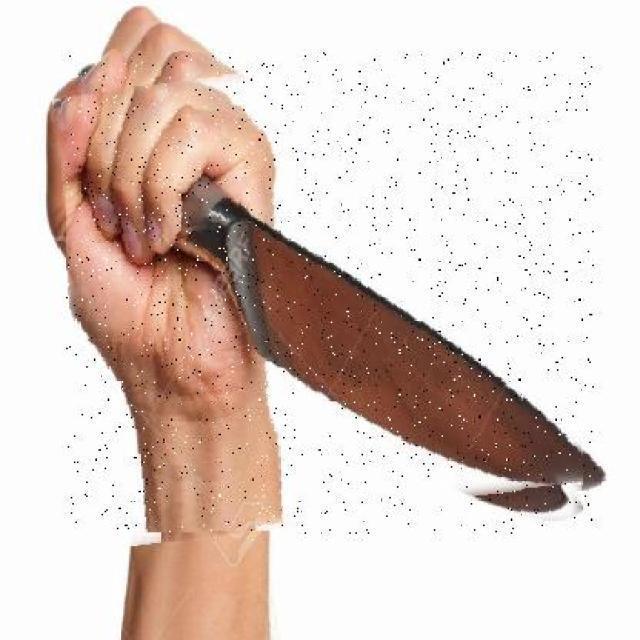knife: (67, 52, 596, 534)
